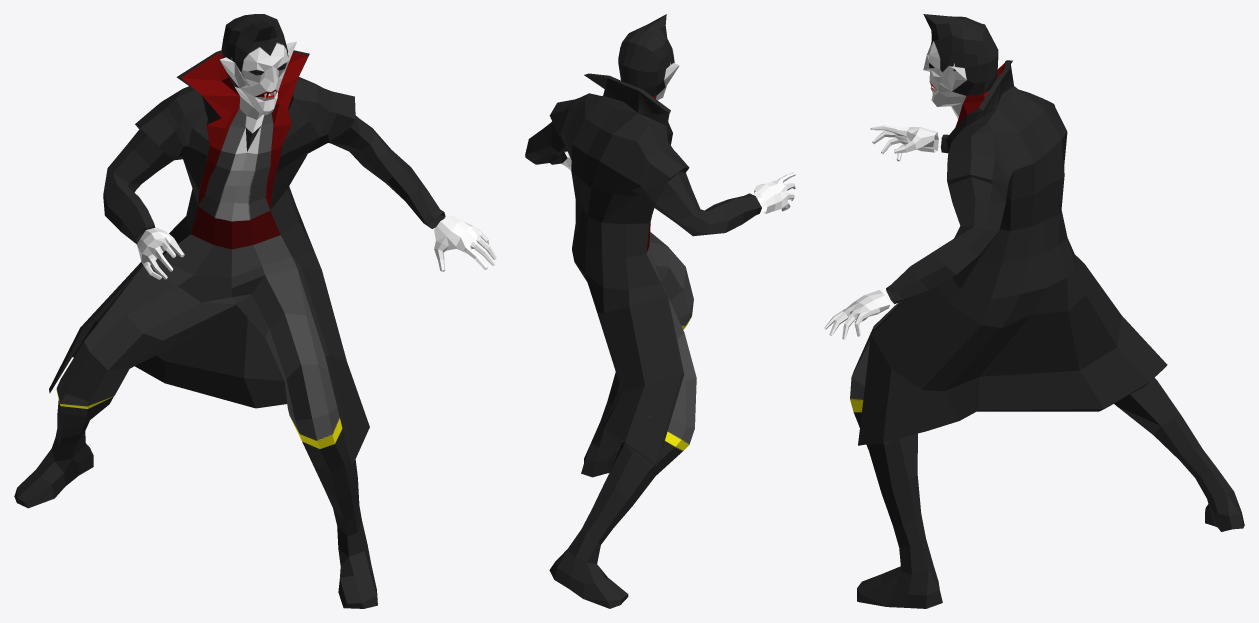
Rendered from VampireAttack(49).obj.
The picture shows the model from 3 angles, left to right: view 1: azimuth 30°, elevation 25°; view 2: azimuth 150°, elevation 25°; view 3: azimuth 270°, elevation 25°; orthographic projection. The views are drawn at different scales.
Visible parts, largest first — view 1: Plane002; view 2: Plane002; view 3: Plane002.
Boxes of the visible parts, x1=… form: Plane002: x1=14, y1=14, x2=496, y2=608; Plane002: x1=525, y1=14, x2=795, y2=608; Plane002: x1=824, y1=14, x2=1244, y2=608.
Size of the model in its own units: 176 by 300 by 206.
